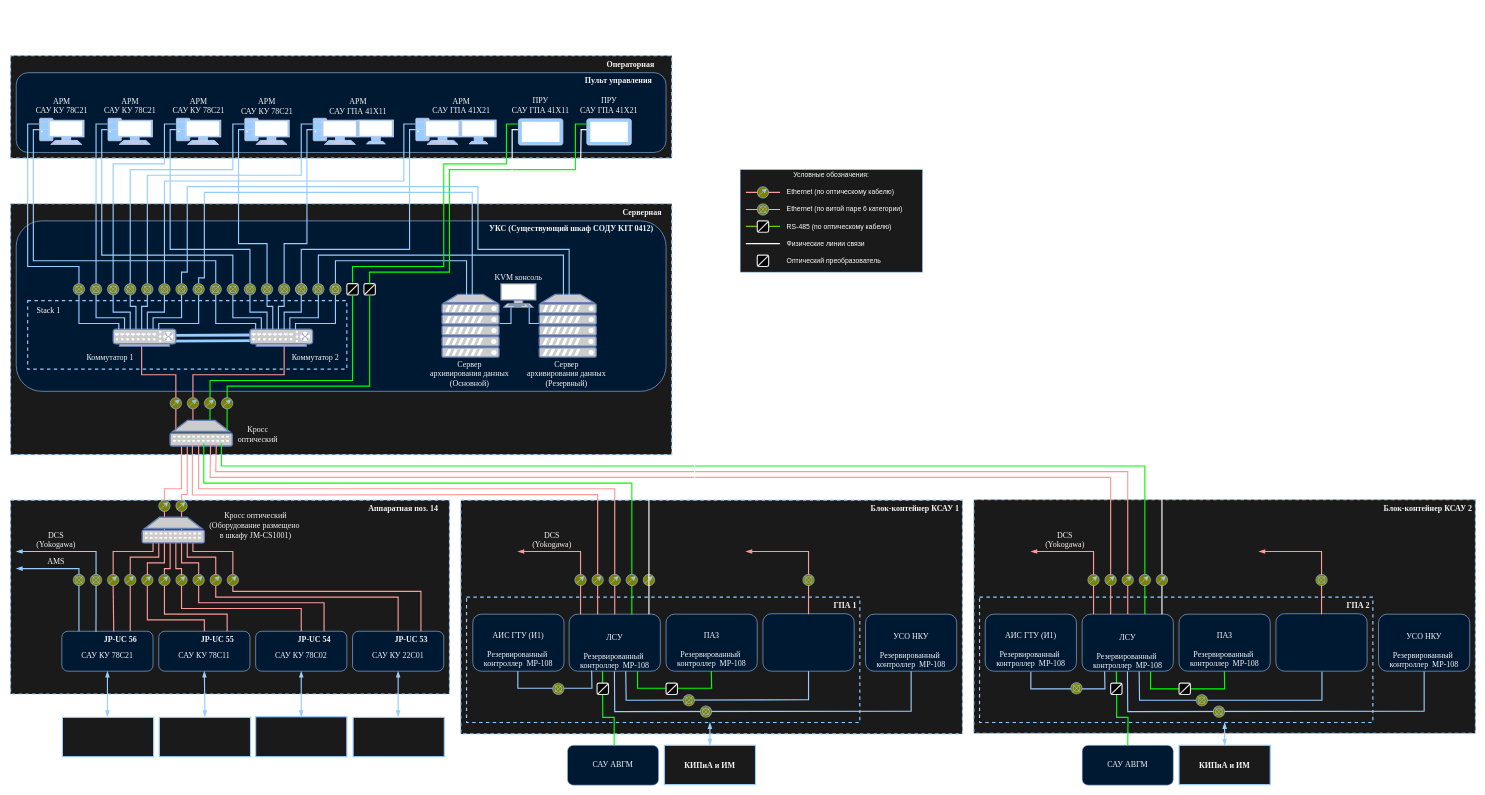
This 1485x795 diagram has some shape labels left out. Each missing label, with the centre of its shape:
"АИС К 41С11 Резервированный контроллер МР-108" goes at [808,642].
"АИС К 41С21 Резервированный контроллер МР-108" goes at [1321,642].
"КУ 22 С01 КИПиА и ИМ" goes at [398,736].
"КУ 78С02 КИПиА и ИМ" goes at [301,736].
"КУ 78С11 КИПиА и ИМ" goes at [204,736].
"КУ 78С21 КИПиА и ИМ" goes at [108,736].
